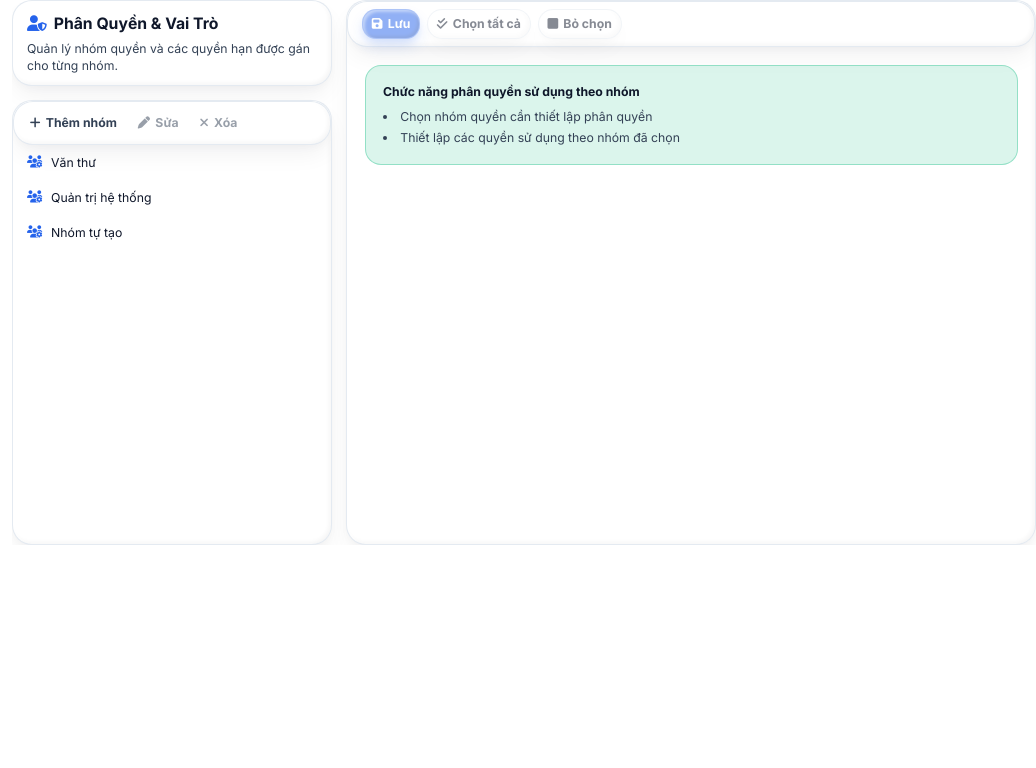
Test case: RolesPage (Issue #21) › lists roles and shows the permission matrix of the selected role
This screenshot has width=1036, height=768.
Expected: the text "Chức năng phân quyền sử dụng theo nhóm" is shown, top-left (383, 84), bottom-right (640, 99)
Click the button "Văn thư" at (73, 162), box top-left (13, 145), bottom-right (331, 180)
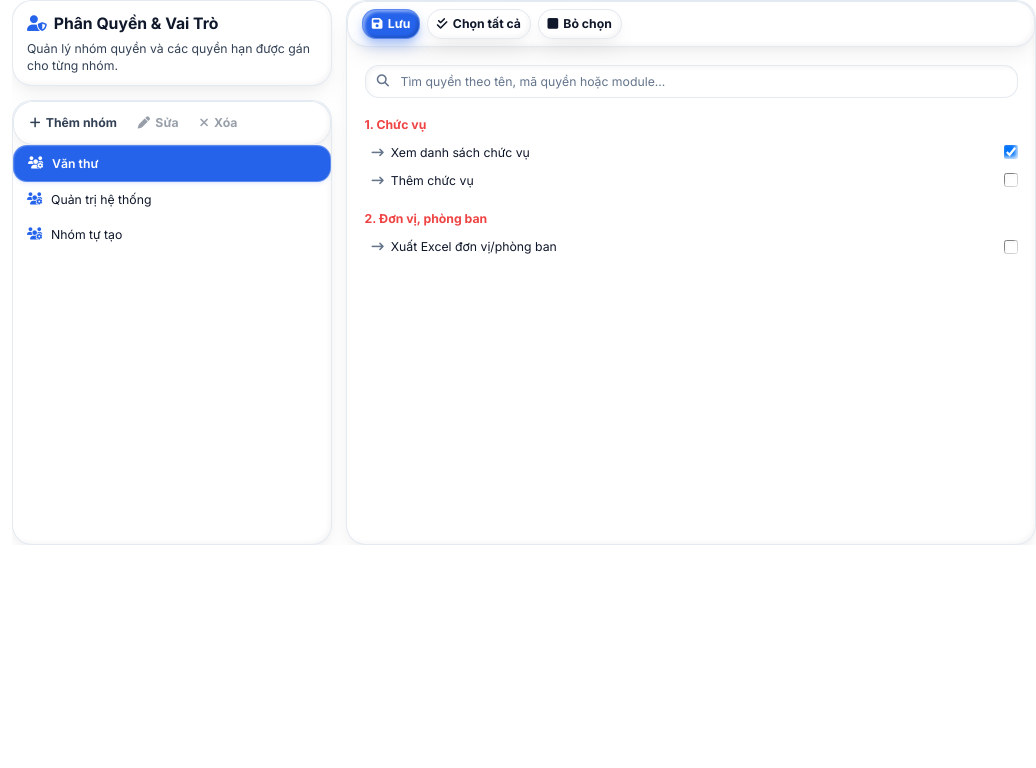
Expected: the number of checkboxes is 3, top-left (1004, 145), bottom-right (1018, 159); top-left (1004, 173), bottom-right (1018, 187); top-left (1004, 240), bottom-right (1018, 254)
Expected: the checkbox labelled "Xem danh sách chức vụ" is checked, top-left (1004, 145), bottom-right (1018, 159)
Expected: the checkbox labelled "Thêm chức vụ" is not checked, top-left (1004, 173), bottom-right (1018, 187)
